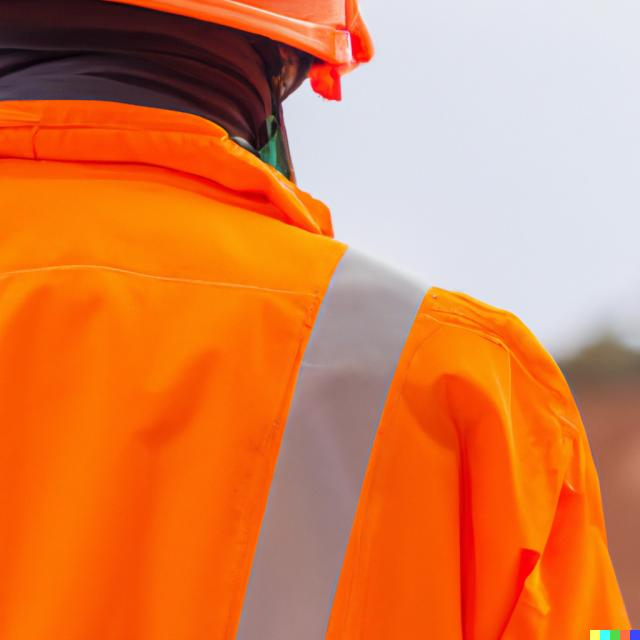Reflective-Jacket: (1, 97, 638, 640)
Safety-Helmet: (11, 1, 381, 72)
